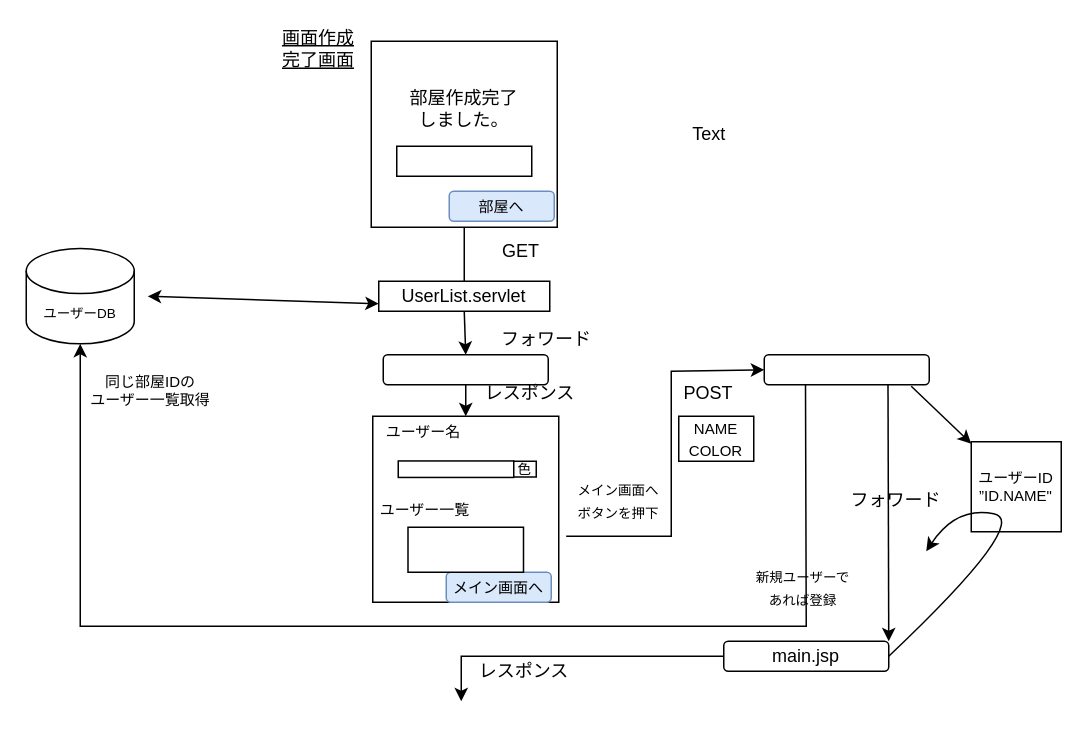
This 1088x750 diagram has some shape labels left out. The shapes that lost their labels are listed below. From the top down, each one's centre as x and y in pixels, then its label:
the point at 463,160: URL: ________
the point at 465,369: UserCreate.jsp
the point at 846,369: UserCreateServlet
the point at 465,549: 常に反映
